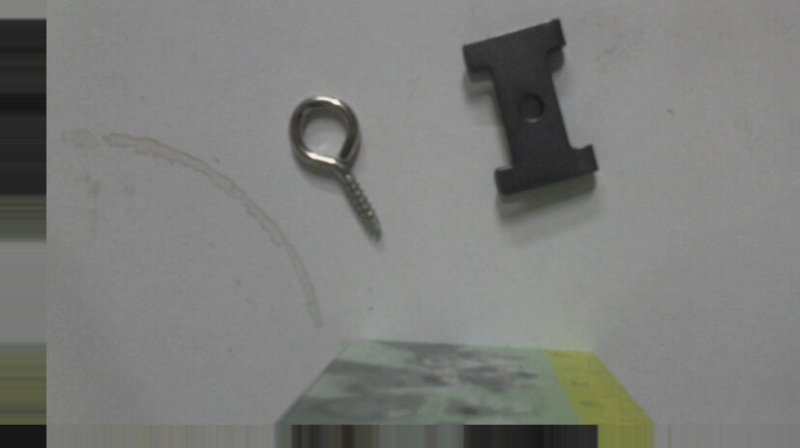O001: (283, 90, 388, 246)
O002: (458, 15, 602, 198)
